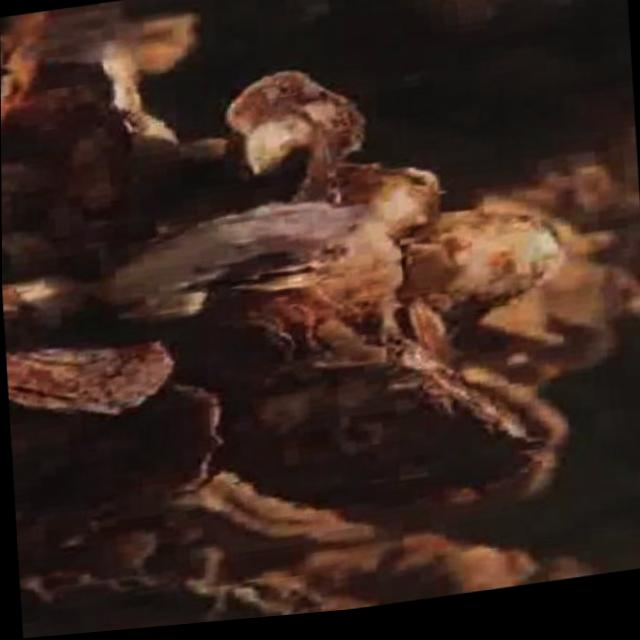Oyster-Closed: (164, 307, 298, 383), (467, 348, 576, 440), (337, 154, 444, 234), (218, 256, 326, 295), (409, 288, 458, 359)
Oyster-Indeterminate: (230, 348, 555, 498), (26, 538, 436, 637), (84, 204, 354, 313), (392, 205, 566, 330), (216, 65, 357, 211), (3, 326, 179, 418), (89, 379, 229, 488), (294, 220, 405, 334), (56, 87, 132, 214), (549, 264, 640, 321), (2, 273, 92, 328), (478, 179, 580, 225), (85, 32, 138, 117), (540, 322, 615, 369), (15, 73, 90, 111)
